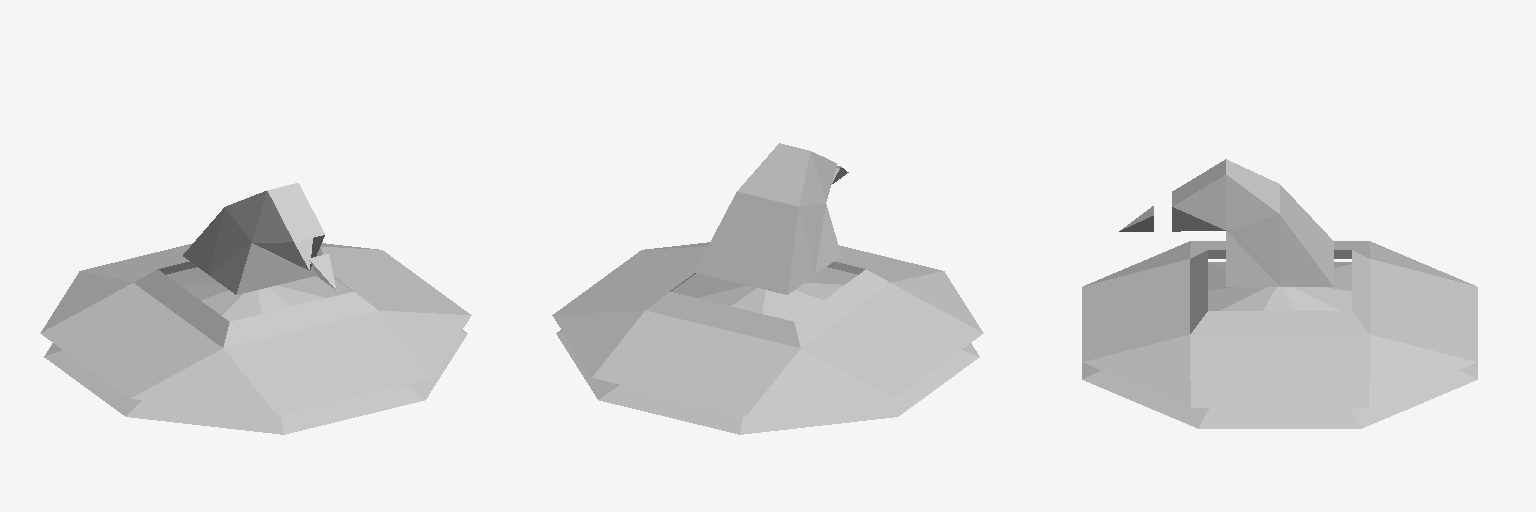
The model's file is hat_floppywitch_tint.obj.
3 renders of one model, left to right at view 1: azimuth 30°, elevation 25°; view 2: azimuth 150°, elevation 25°; view 3: azimuth 270°, elevation 25°, orthographic.
Parts seen in each view (by area): view 1: HAT_FLOPPYWITCH_TINT_Circle.003; view 2: HAT_FLOPPYWITCH_TINT_Circle.003; view 3: HAT_FLOPPYWITCH_TINT_Circle.003.
Boxes of the visible parts, x1=… form: HAT_FLOPPYWITCH_TINT_Circle.003: x1=40, y1=183, x2=471, y2=434; HAT_FLOPPYWITCH_TINT_Circle.003: x1=552, y1=143, x2=983, y2=434; HAT_FLOPPYWITCH_TINT_Circle.003: x1=1082, y1=159, x2=1477, y2=428.
Bounding box in the file's own units: 1.38 × 0.6875 × 1.38.